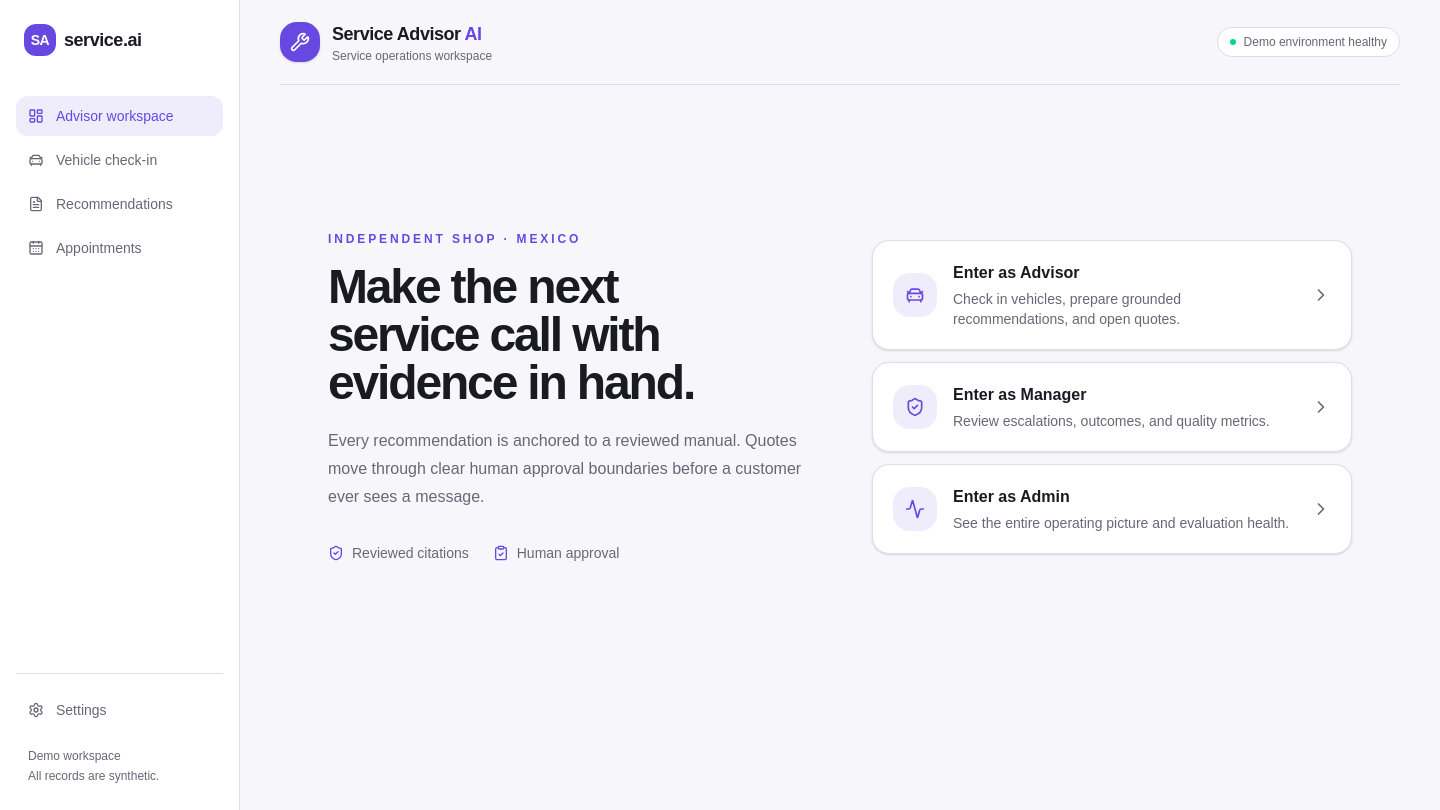
it: offers an accessible vehicle search after the demo workspace opens
Click the button "Enter as Advisor": click(1112, 294) [872,240,1352,350]
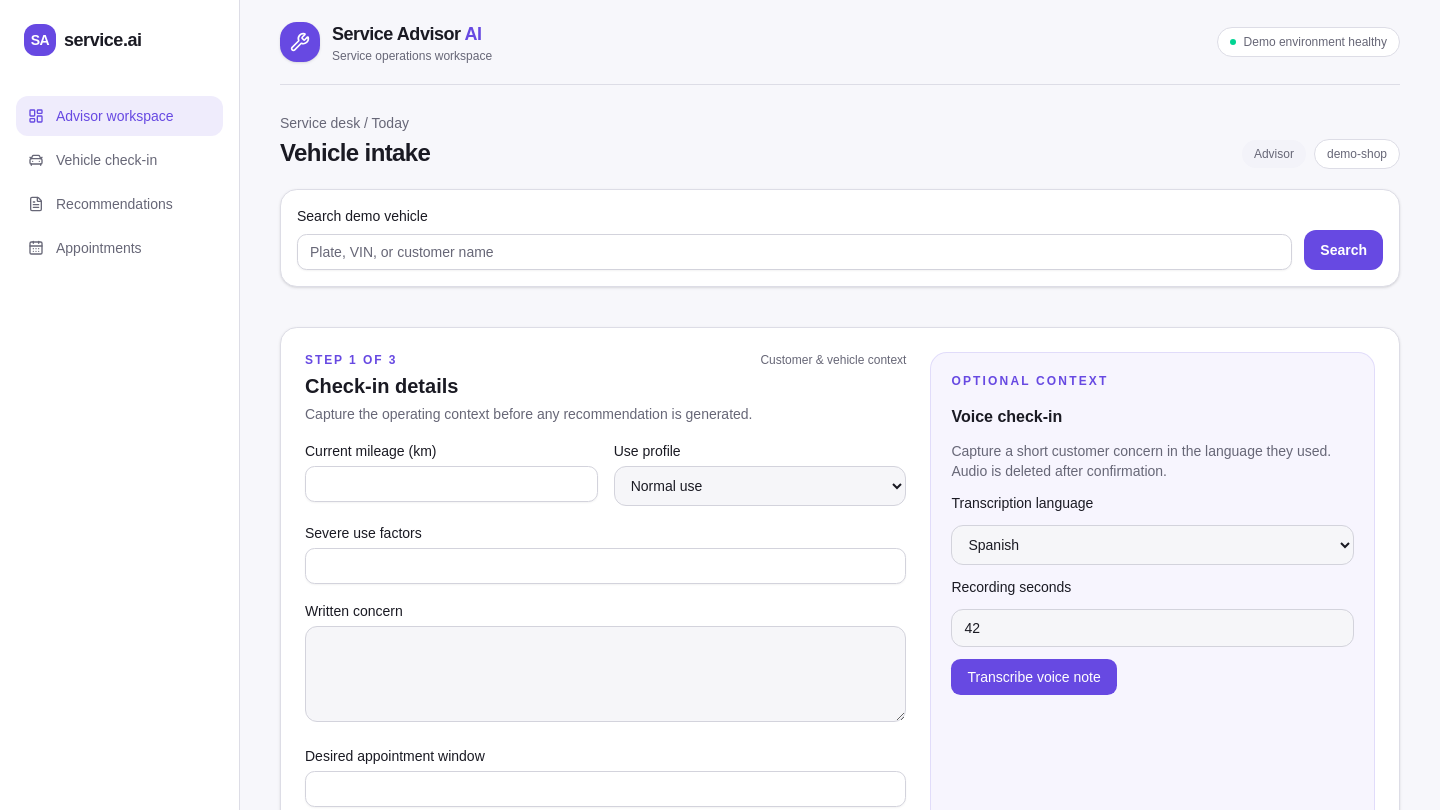
Result: the search field labelled "Search demo vehicle" is shown at [297,234,1292,270]
